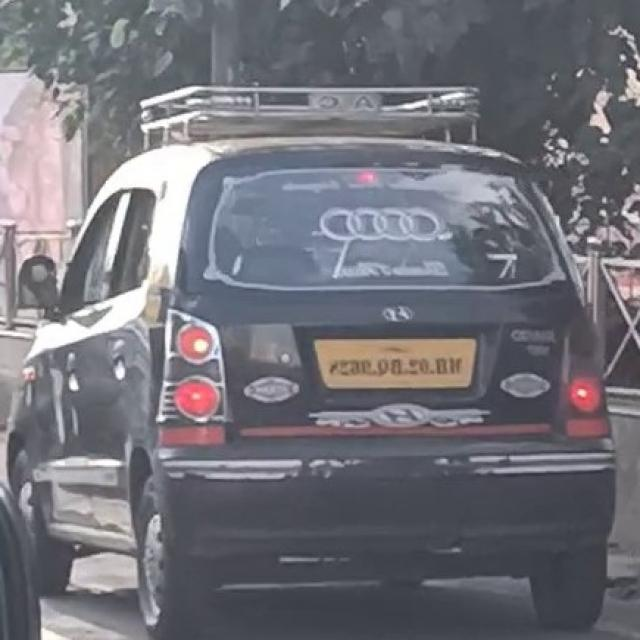license_plate: (303, 328, 484, 396)
